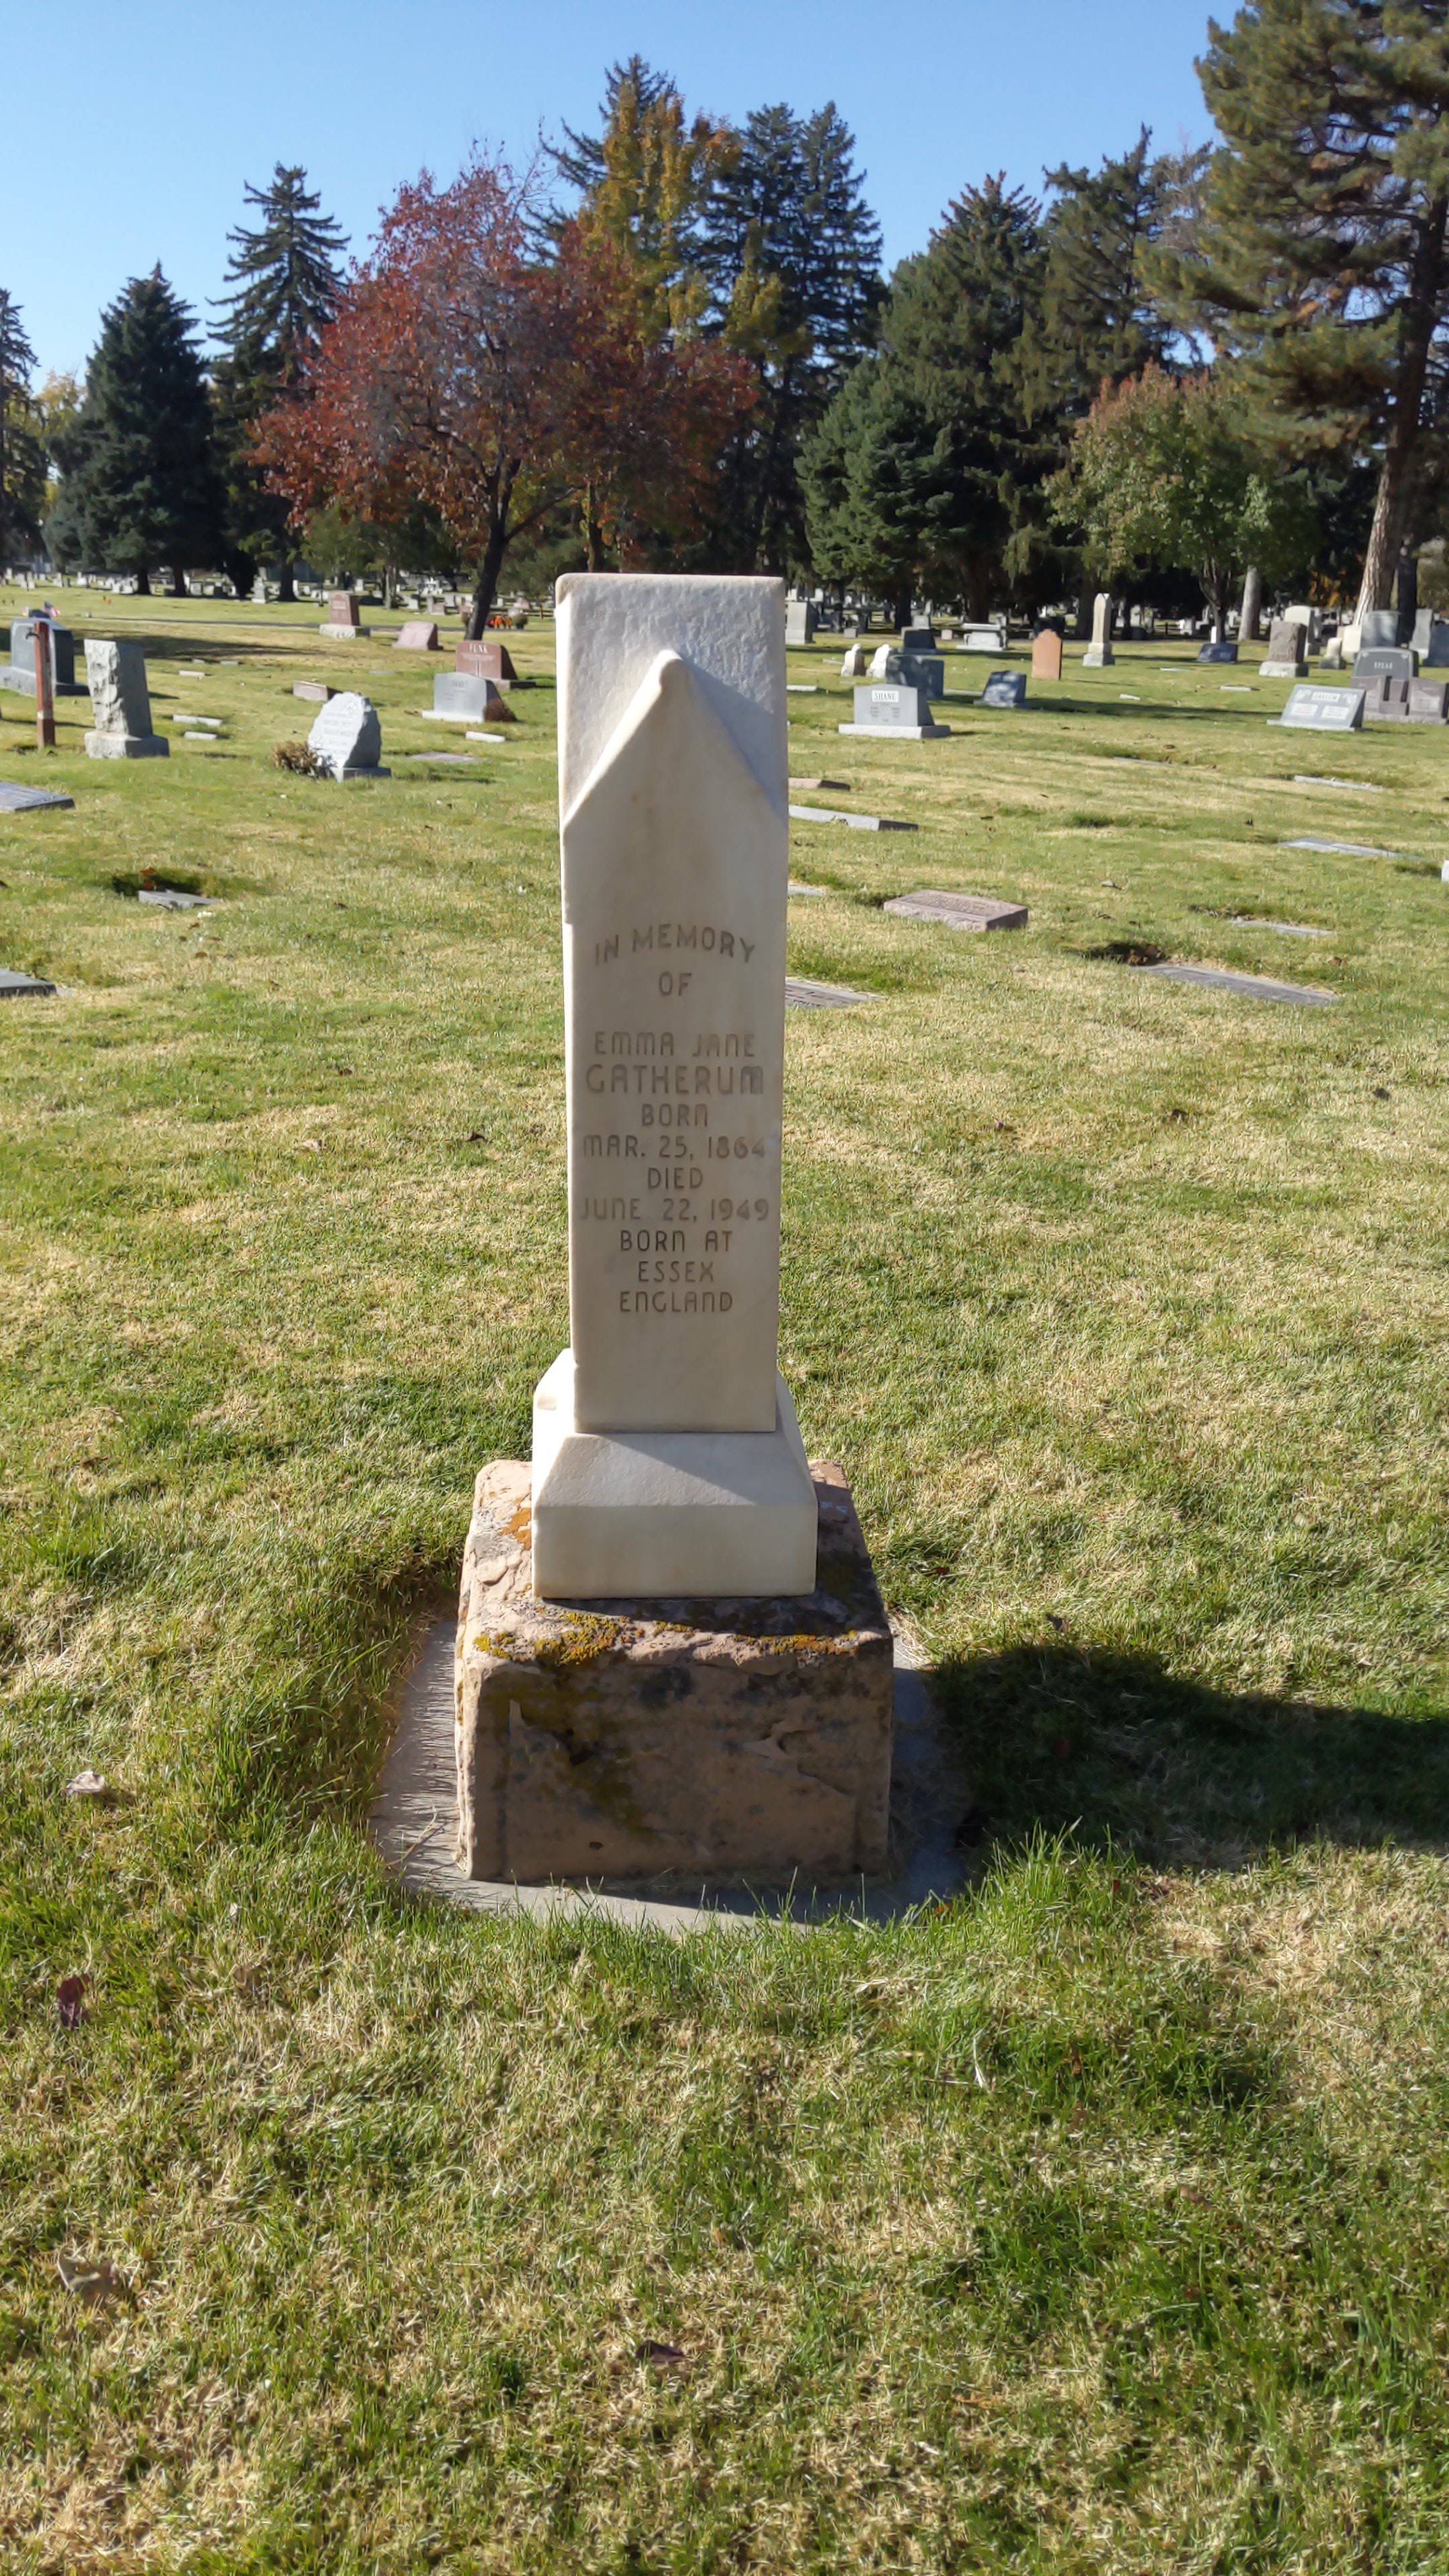obelisk: (534, 571, 814, 1582)
